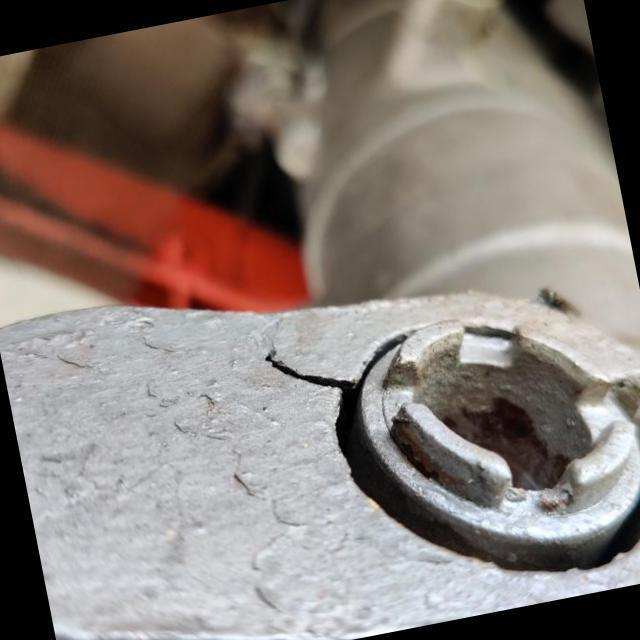Rupture: (246, 319, 370, 414)
